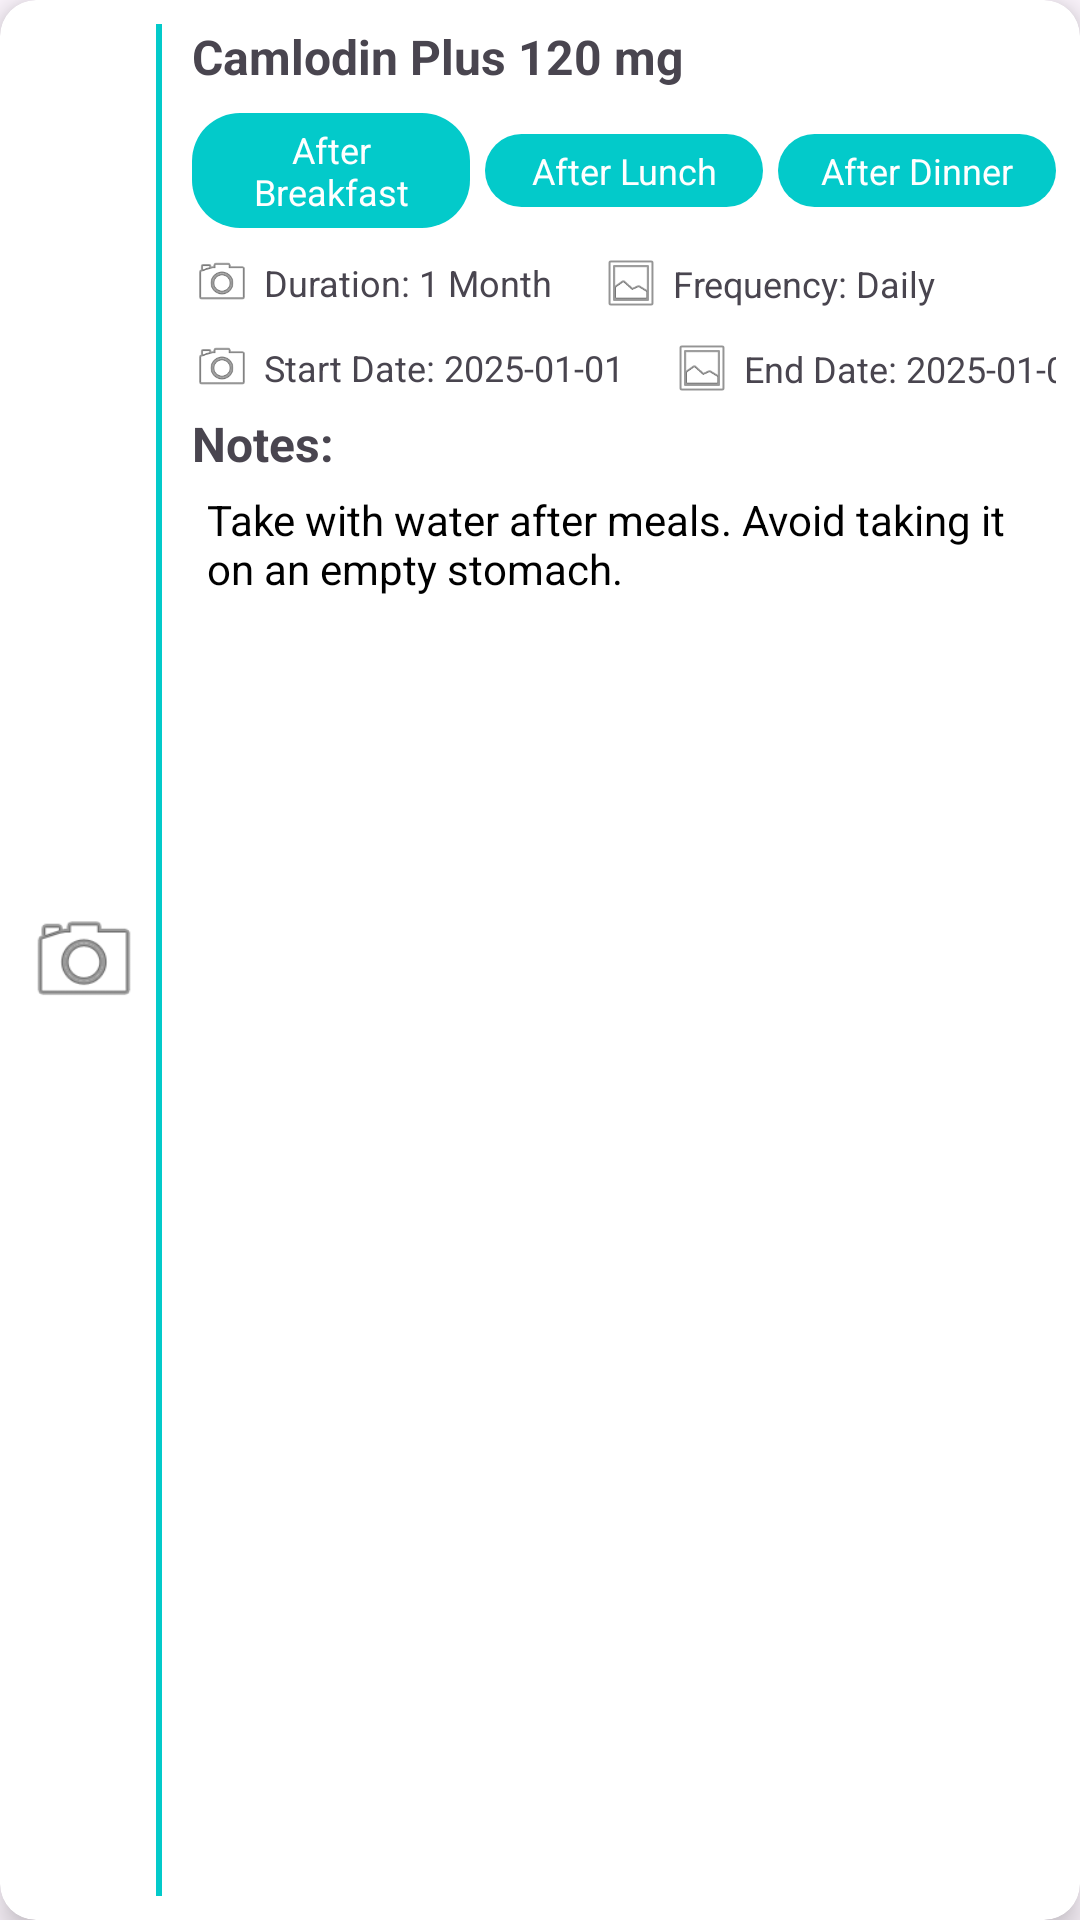

Where to tap for icons on this 1080*1920 app screen, as [x,y]:
camera: [222,281], [222,366], [84,958]
gallery: [631,283], [702,368]
